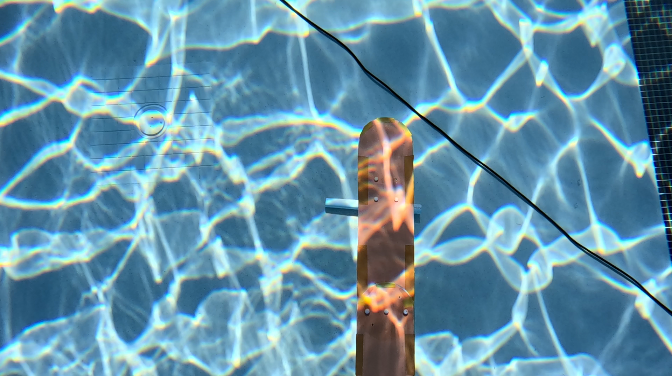pathmarker: (356, 117, 414, 375)
